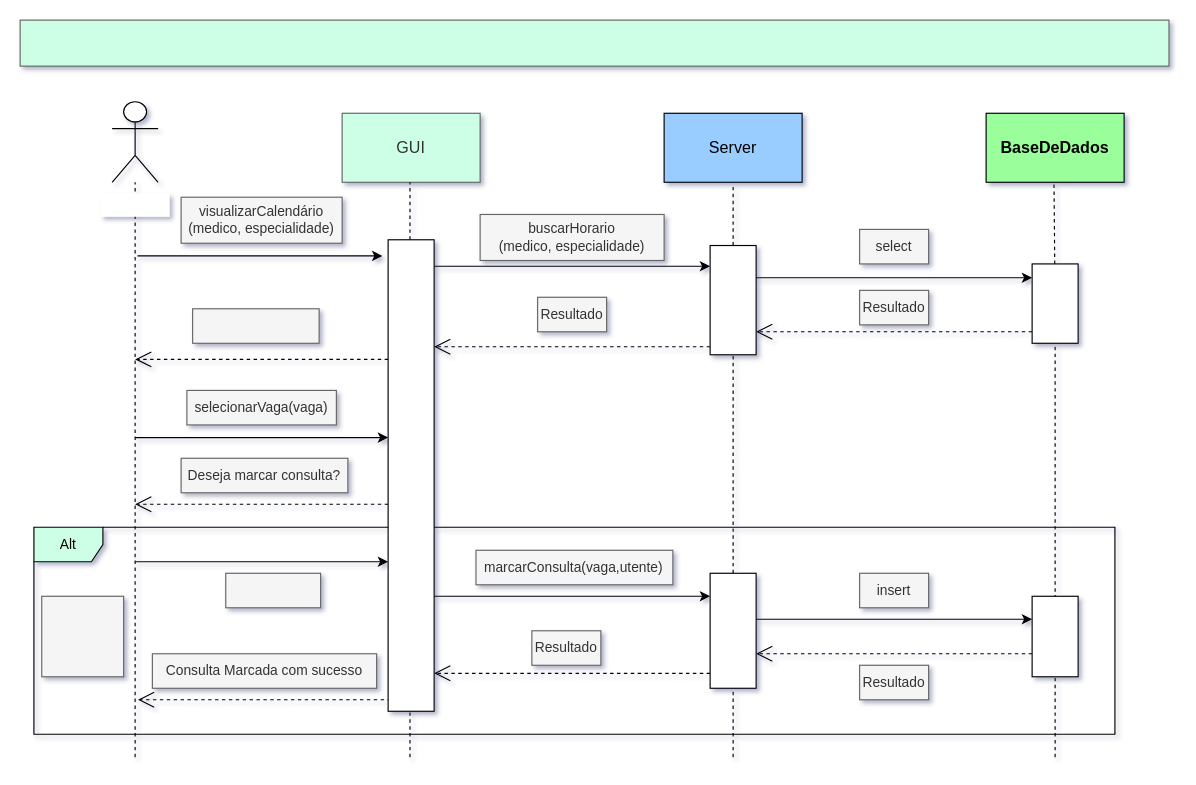
Some shapes in this 1196 by 785 pixel diagram are drawn without their labels. Here are the shapes that lost their labels. From the top down, the centre of each, then its label:
[594,42]: CALENDARIO GERAL | MARCAR CONSULTAS
[134,204]: Pessoa
[255,325]: Calendário
[273,590]: Resposta
[82,636]: [Resposta Positiva]
